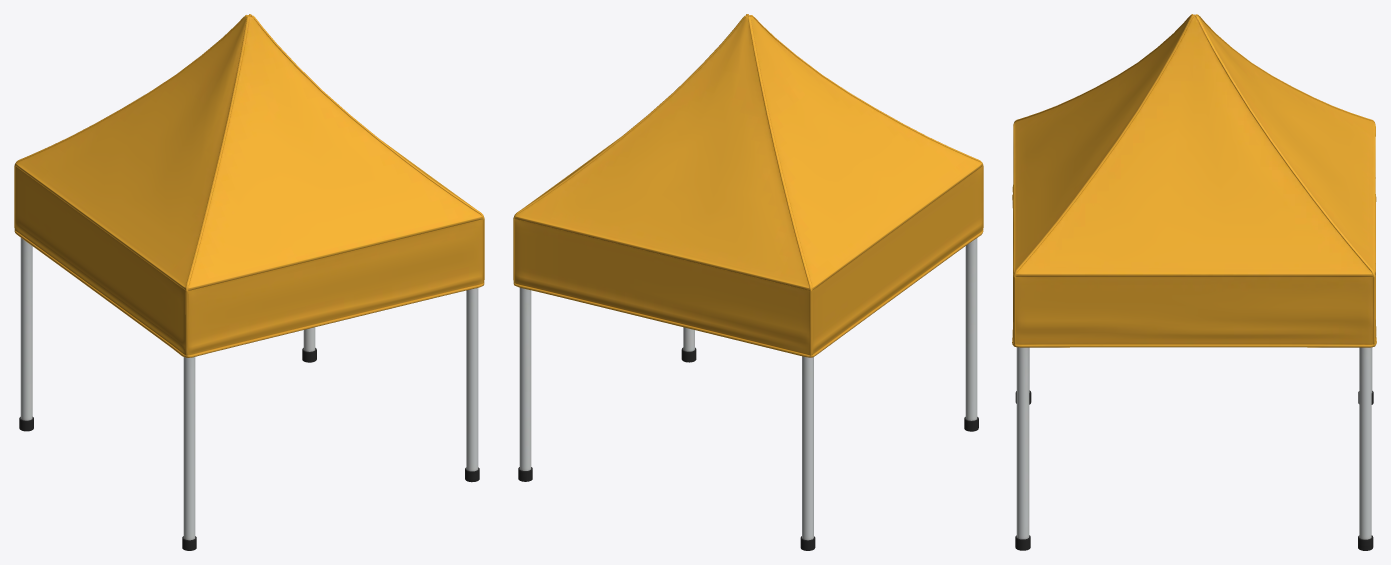
The model's file is tent-5x5.glb.
3 views of the same model, side by side, from view 1: azimuth 30°, elevation 25°; view 2: azimuth 150°, elevation 25°; view 3: azimuth 270°, elevation 25° (orthographic). The views are drawn at different scales.
Parts seen in each view (by area): view 1: fabric, leg5; view 2: fabric, leg5; view 3: fabric, leg5.
Boxes of the visible parts, <box> form: fabric: <box>14,14,484,357</box>; leg5: <box>19,238,479,550</box>; fabric: <box>513,14,983,357</box>; leg5: <box>518,238,978,550</box>; fabric: <box>1012,14,1376,347</box>; leg5: <box>1015,347,1373,550</box>.
Bounding box in the file's own units: 1.53 × 2.13 × 1.53.
Materials: 3 (2 with a texture image).
